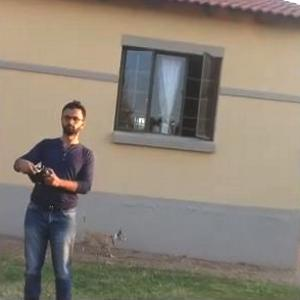follow: (7, 93, 101, 299)
null: (76, 218, 130, 260)
